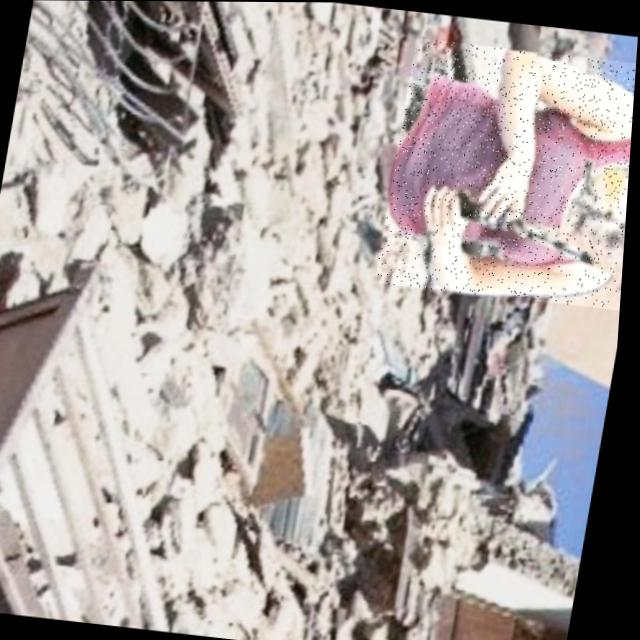Person in Rubble: (376, 36, 638, 309)
